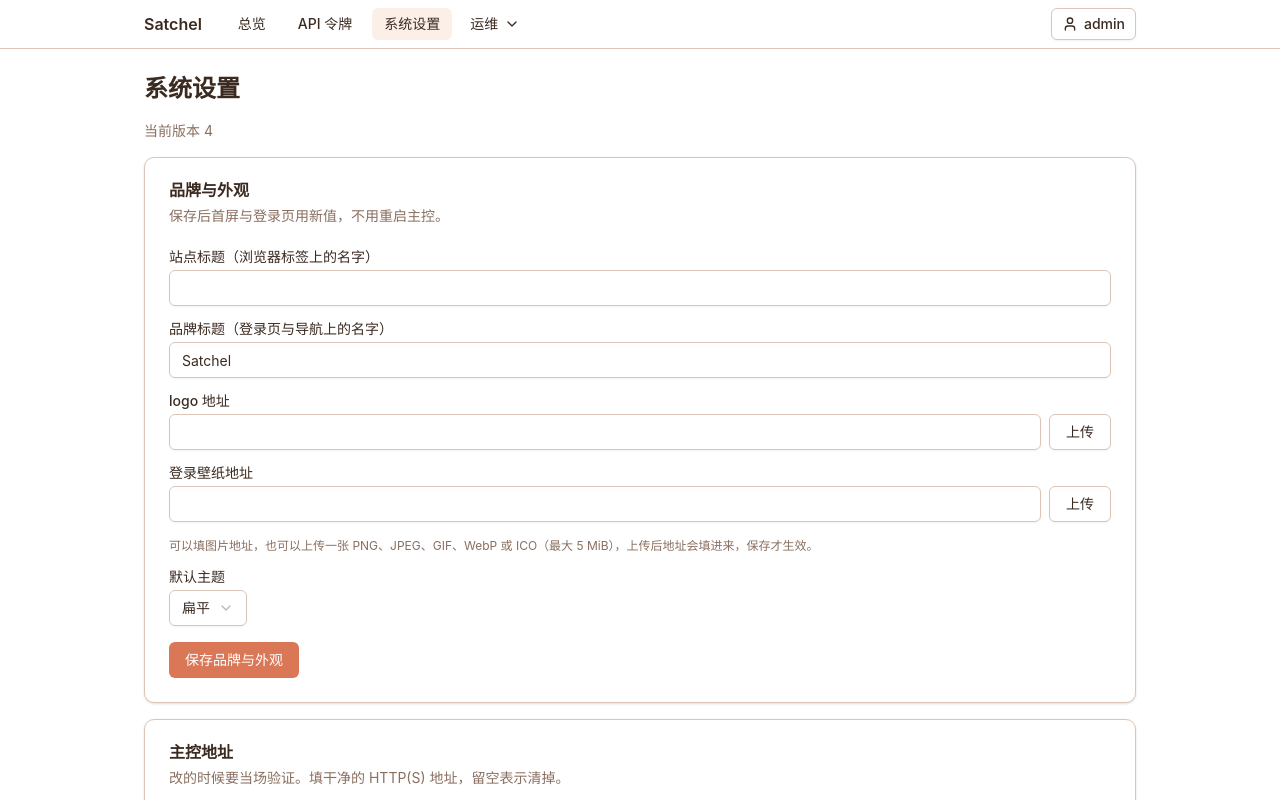
Test: 系统设置页 › 版本冲突：提示别人刚改过，重新读取后用新版本号，不自动覆盖
This screenshot has width=1280, height=800.
Expected: the text "当前版本 4" is shown, [144,122,213,139]
Click the button "保存品牌与外观" at point(234, 660), box [169,642,299,678]
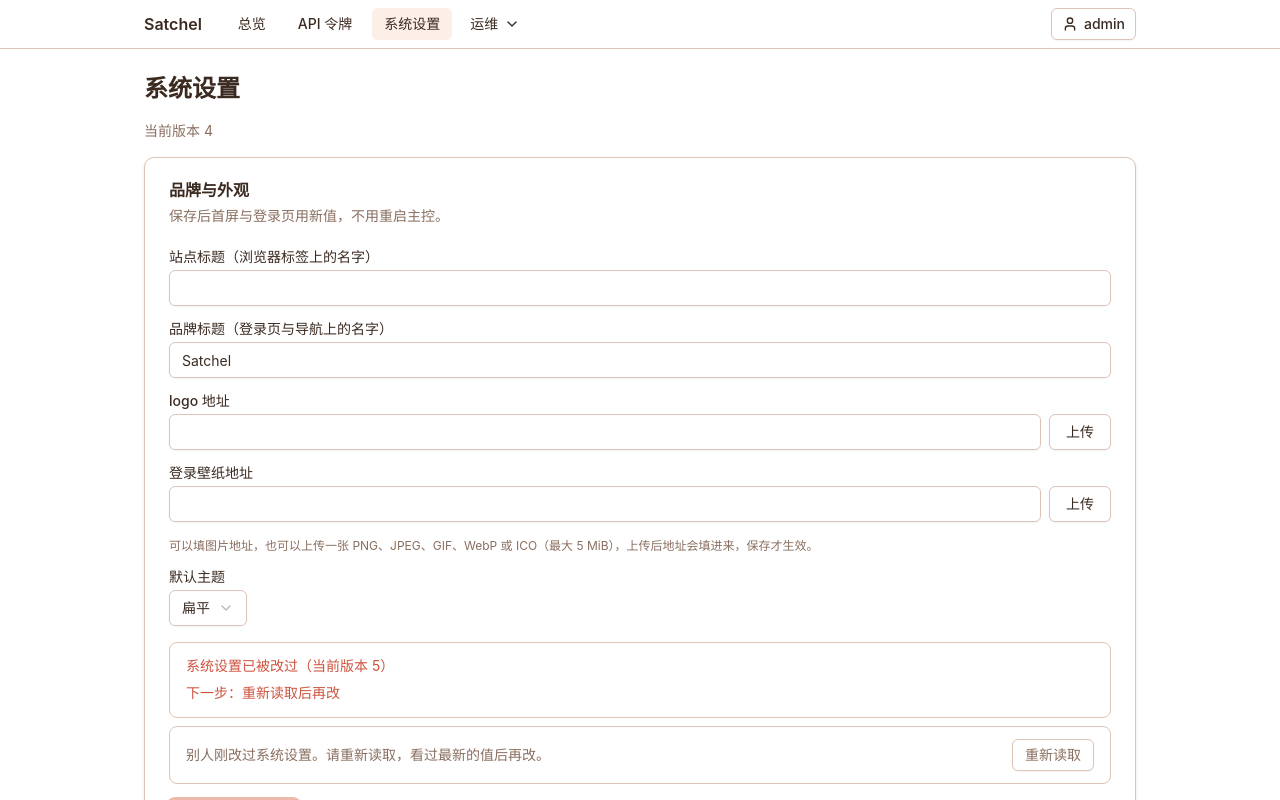
Now the text "系统设置已被改过（当前版本 5）" is shown, box [186,655,394,678]
Now the text "别人刚改过系统设置。请重新读取，看过最新的值后再改。" is shown, box [186,744,550,764]
Click the button "重新读取" at point(1053, 754), box [1012,738,1094,770]
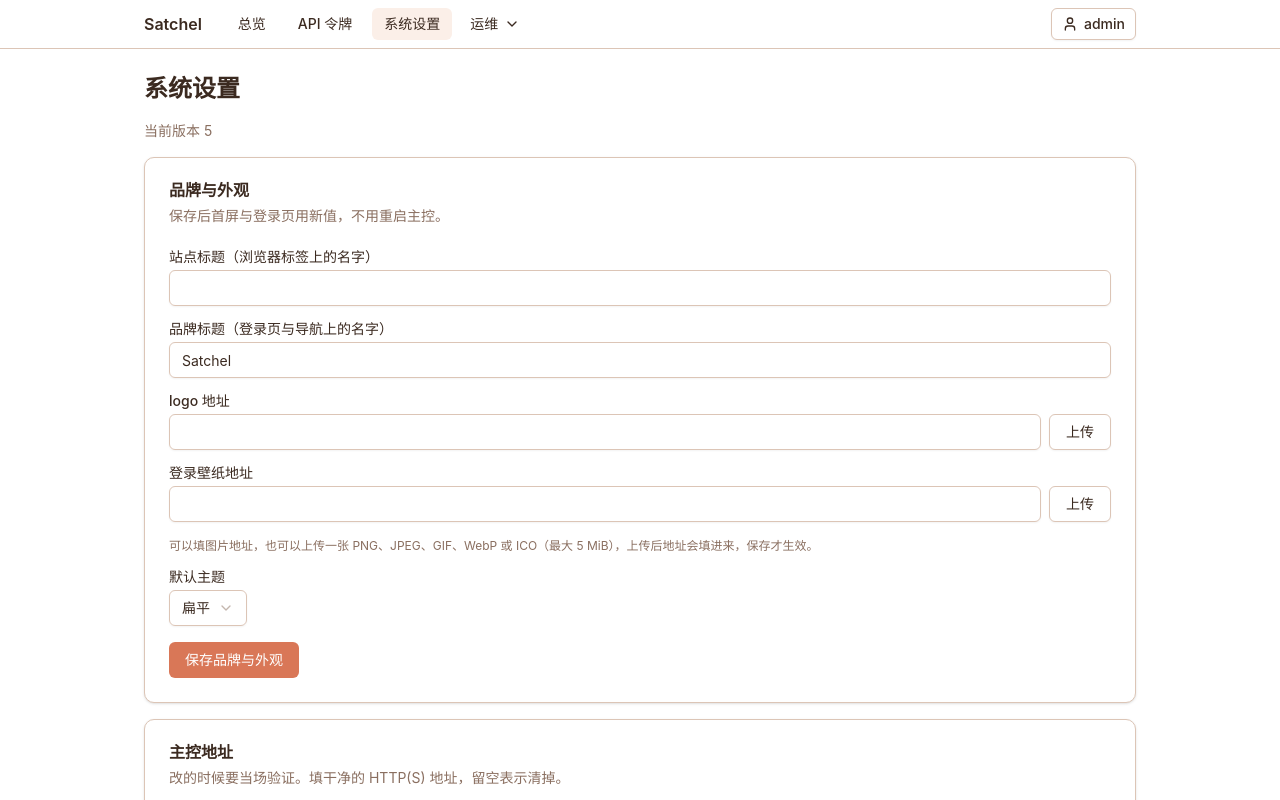
Now the text "当前版本 5" is shown, box [144,122,212,139]
Now the text "系统设置已被改过（当前版本 5）" is gone
Click the button "保存品牌与外观" at point(234, 660), box [169,642,299,678]
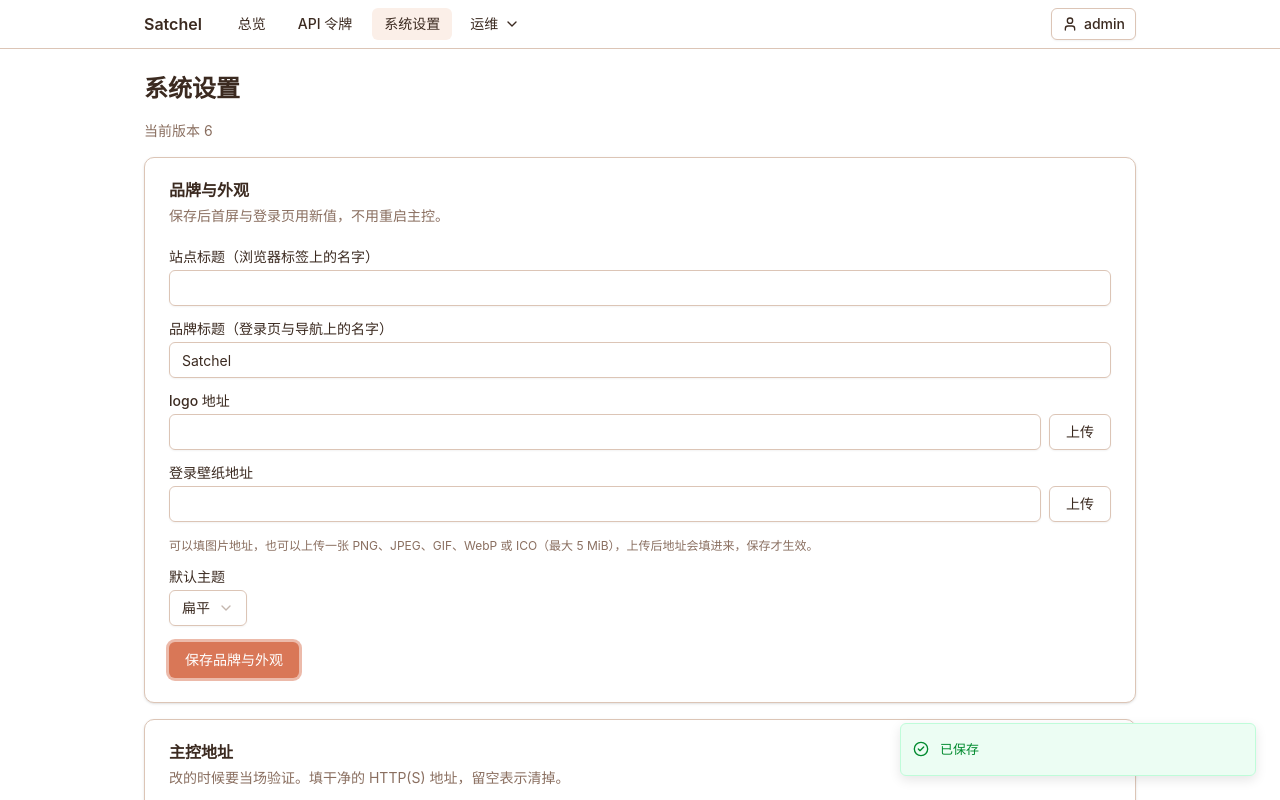
Now the text "当前版本 6" is shown, box [144,122,213,139]
